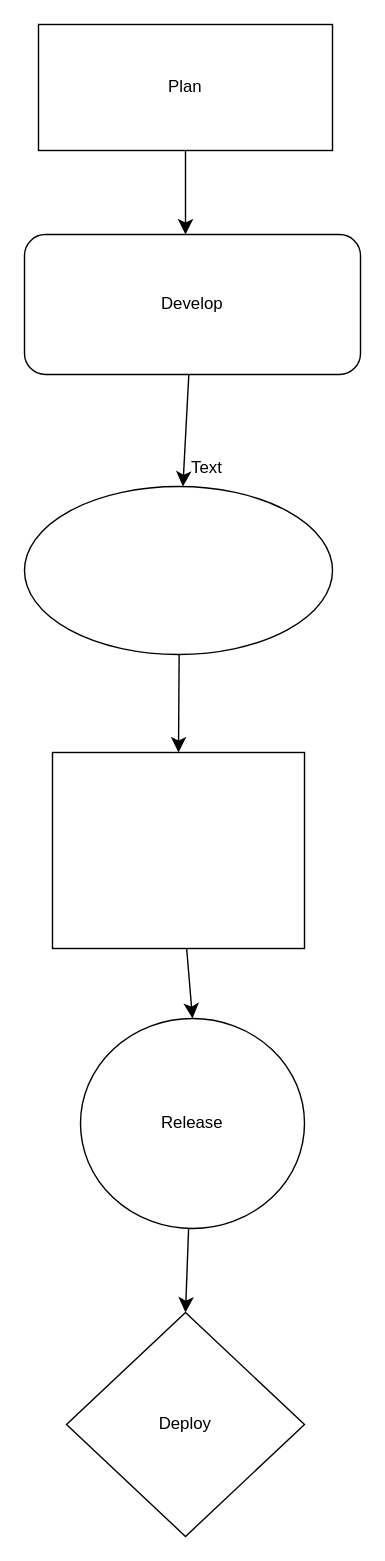
Some shapes in this 385 by 1561 pixel diagram are drawn without their labels. Here are the shapes that lost their labels. From the top down, the centre of each, then its label:
At [177,569]: "Build".
At [177,849]: "Test".
